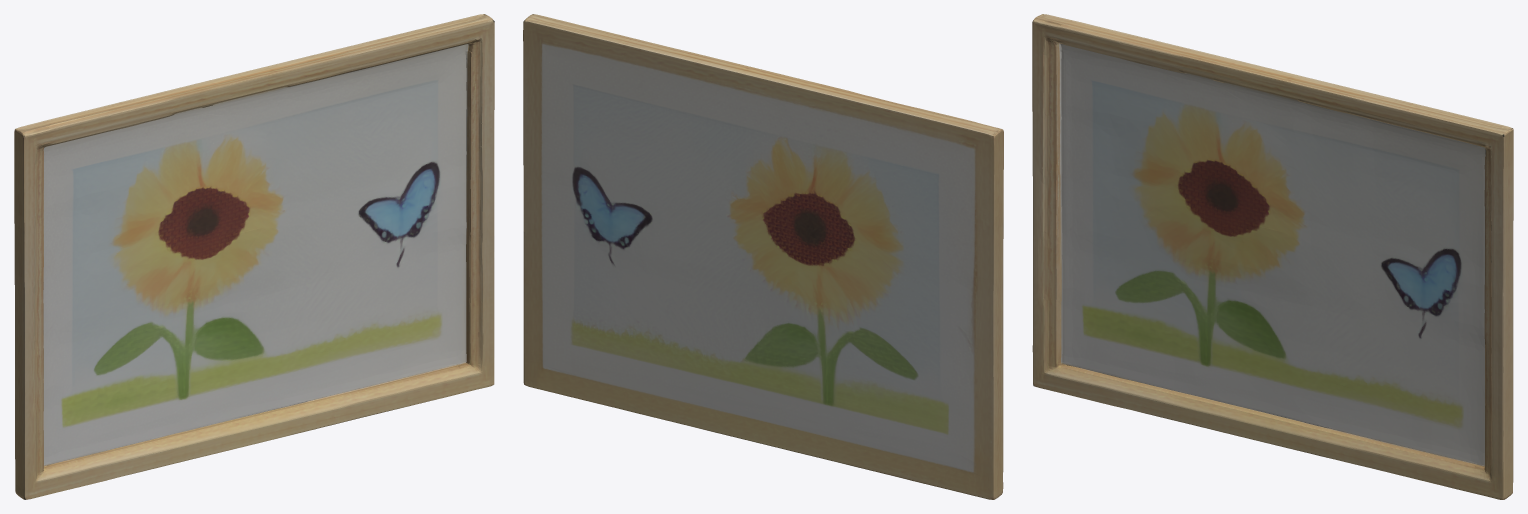
The picture shows the model from 3 angles, left to right: view 1: azimuth 30°, elevation 25°; view 2: azimuth 150°, elevation 25°; view 3: azimuth 330°, elevation 25°; orthographic projection.
Parts seen in each view (by area): view 1: world; view 2: world; view 3: world.
Part boxes in pixels (x1=…): world: x1=14, y1=14, x2=494, y2=499; world: x1=523, y1=14, x2=1003, y2=499; world: x1=1032, y1=14, x2=1513, y2=499.
Size of the model in its own units: 0.9999 by 0.7434 by 0.0373.
Materials: 1 (1 with a texture image).
